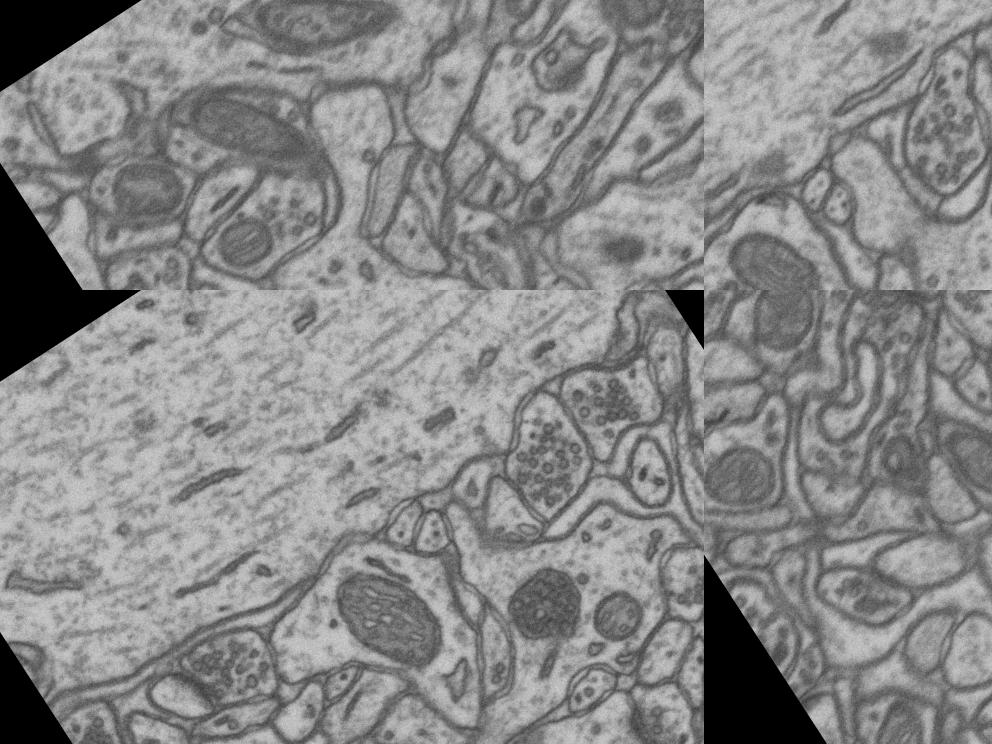mitochondria: (166, 40, 344, 220), (303, 531, 452, 688), (234, 0, 423, 102), (92, 136, 204, 248), (704, 192, 823, 290), (574, 562, 680, 667), (190, 195, 294, 290), (728, 290, 845, 370), (704, 423, 792, 526), (928, 404, 992, 518), (846, 682, 955, 744), (579, 0, 695, 53)
